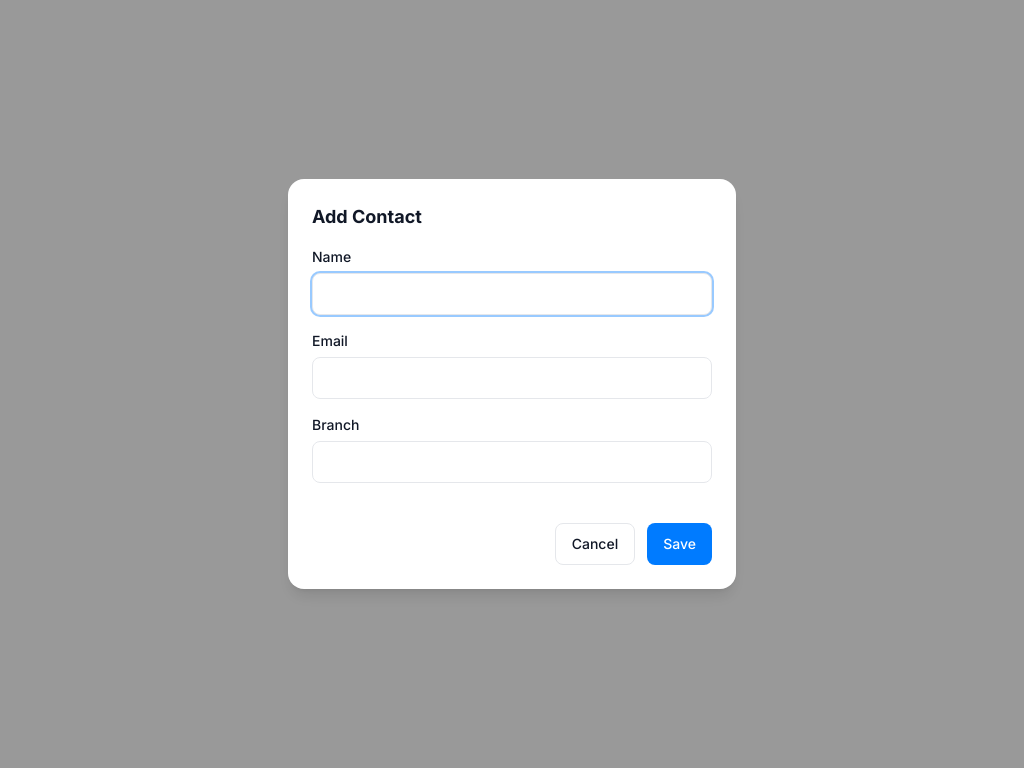
Test: ContactFormModal › preserves entered values when validation fails
This screenshot has width=1024, height=768.
Type "Ada Lovelace" into the field labelled "Name".
click(512, 294); type("Ada Lovelace")  # box x1=312 y1=273 x2=712 y2=315
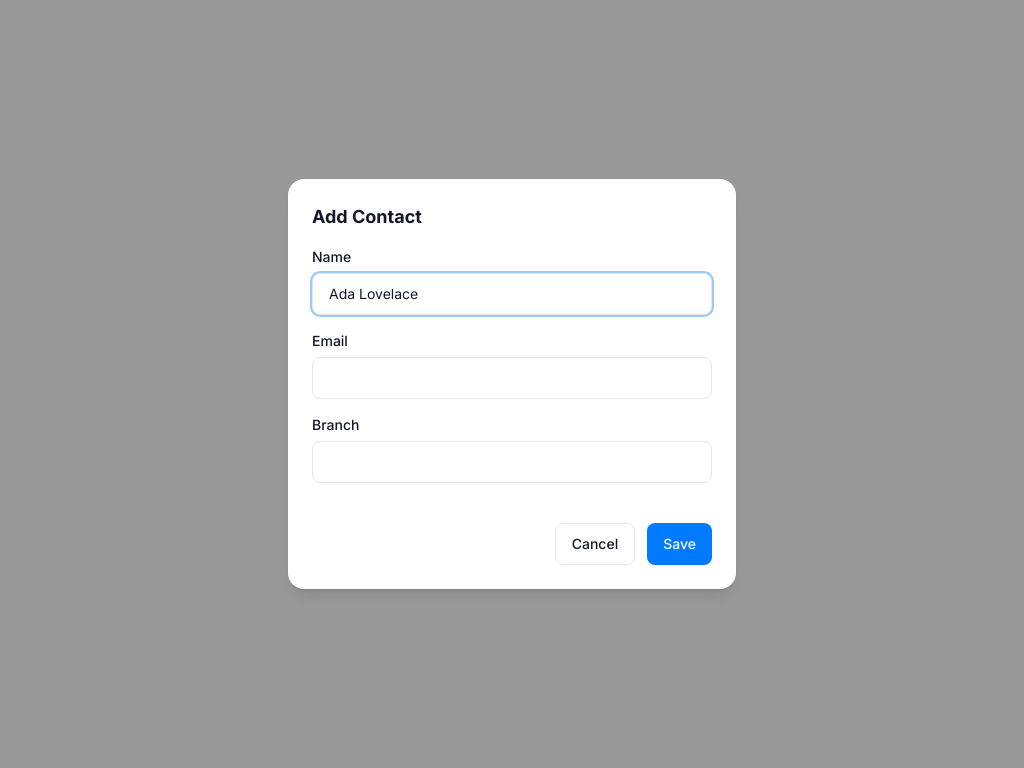
Type "not-an-email" into the field labelled "Email".
click(512, 378); type("not-an-email")  # box x1=312 y1=357 x2=712 y2=399
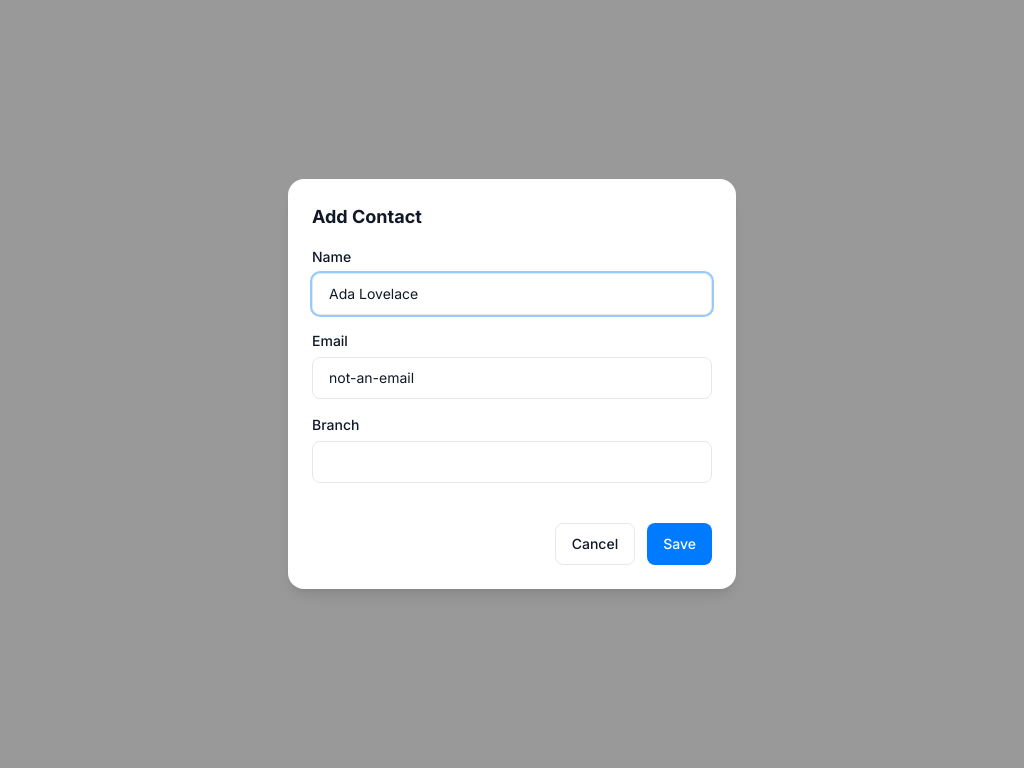
Type "London" into the field labelled "Branch".
click(512, 462); type("London")  # box x1=312 y1=441 x2=712 y2=483
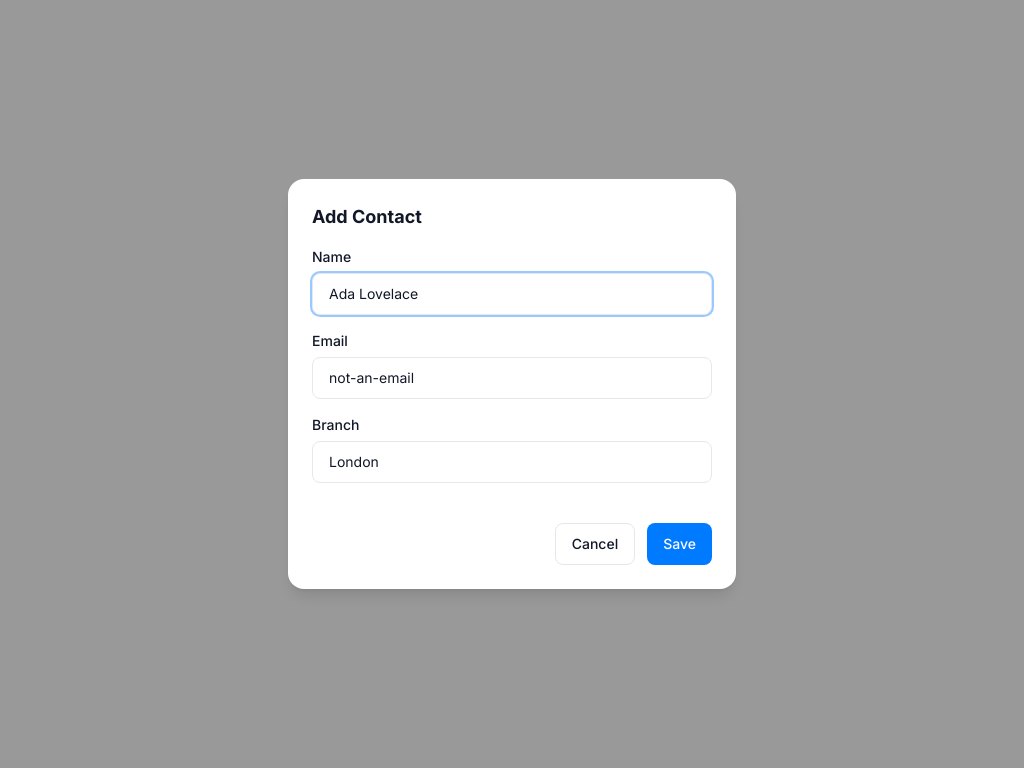
Click the button "Save".
click(680, 544)  # box x1=647 y1=523 x2=712 y2=565
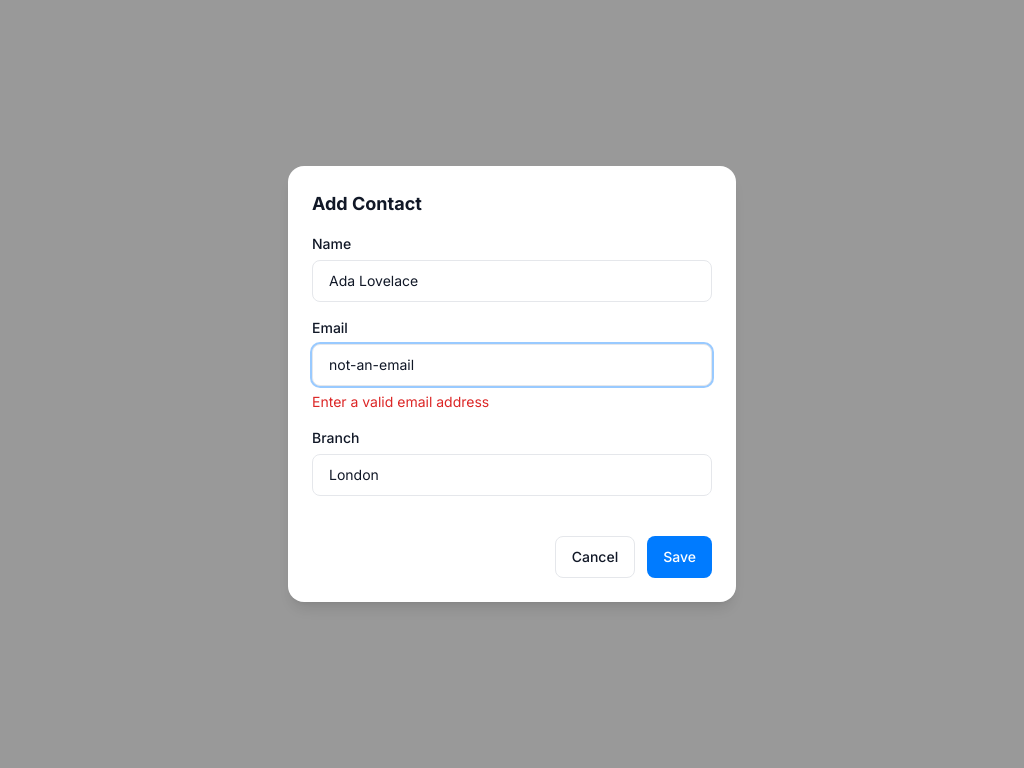
expect the text "Enter a valid email address" is shown: met, box x1=312 y1=393 x2=489 y2=410
